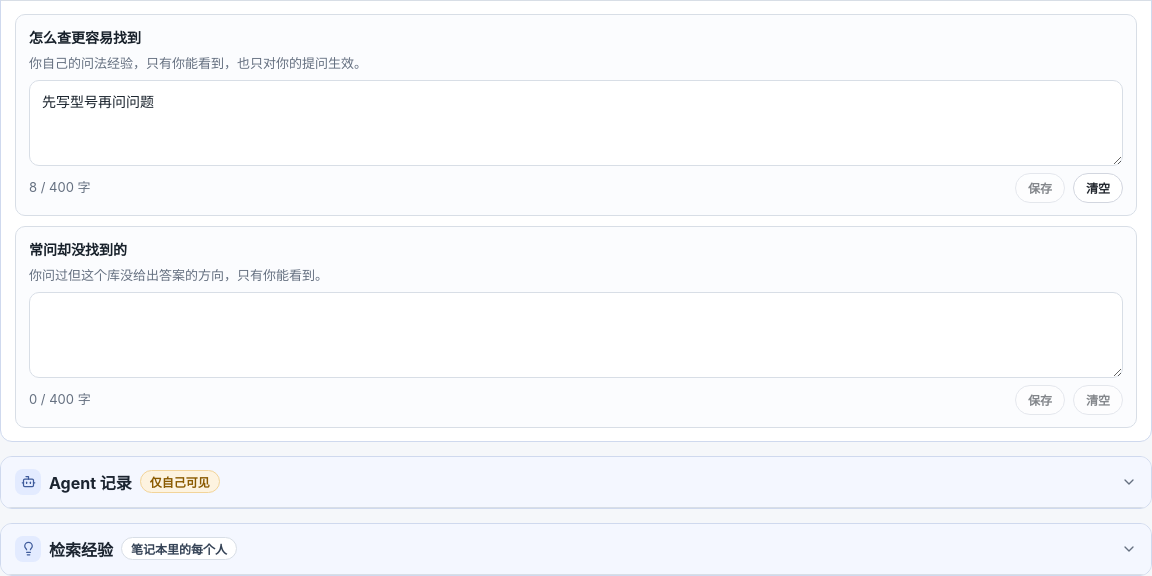
Test: Agent 记录：清空全部是两步确认，第一下只出确认按钮，确认后省略 agentProfileId 全清
The image size is (1152, 576).
(page scrolled)
Click the text "Agent 记录" at (90, 482), box [49,470,132,494]
(page scrolled)
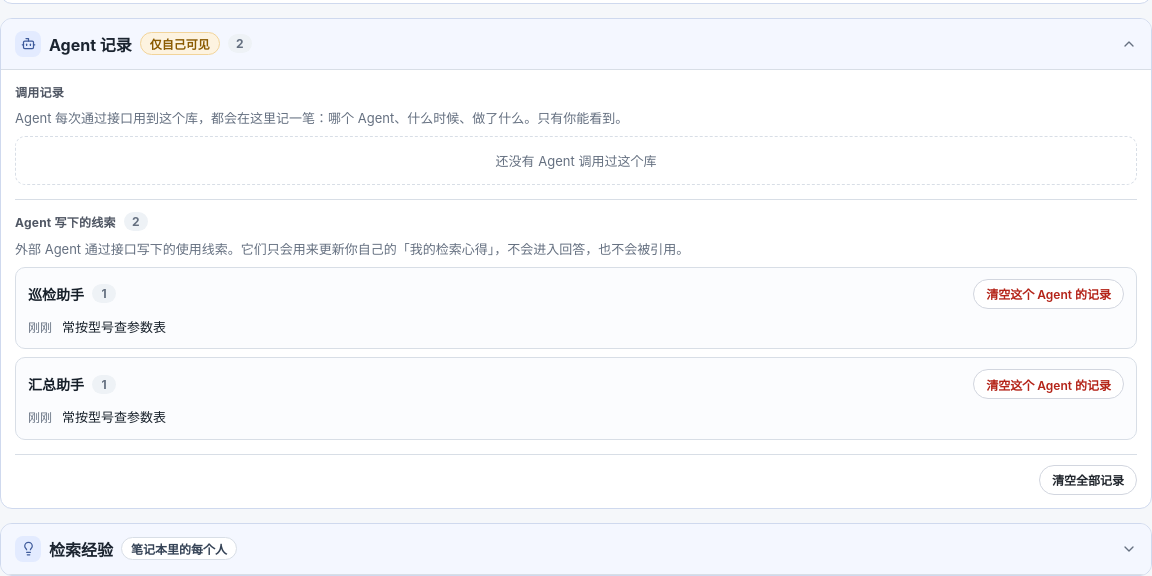
Check: the text "巡检助手" is shown, box [28,284,84,304]
Click the button "清空全部记录" at (1088, 480), box [1039,465,1137,495]
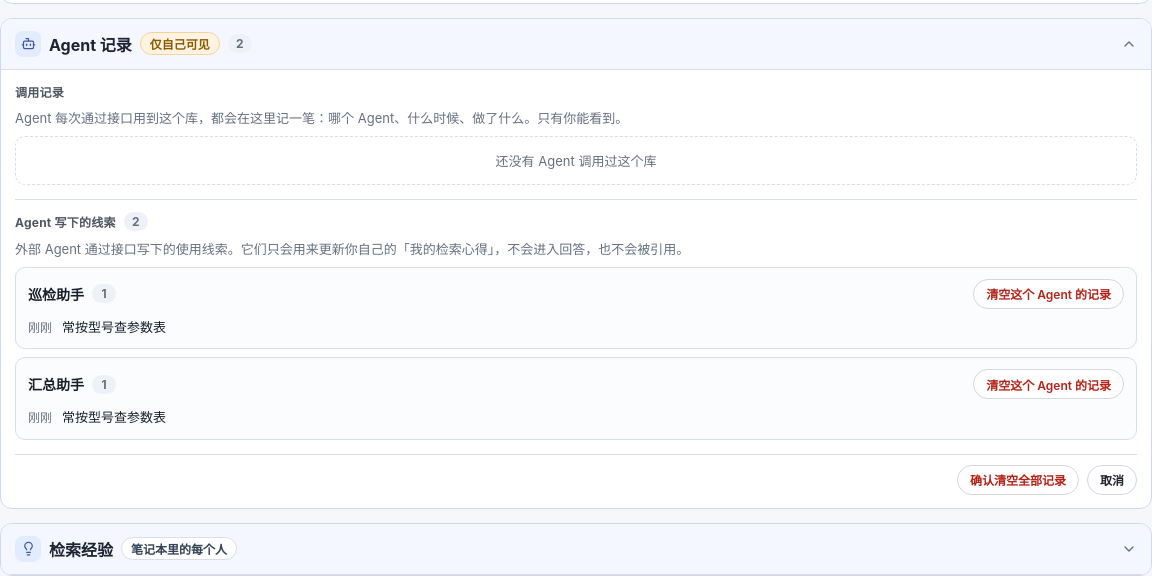
Check: the button "确认清空全部记录" is shown
Click the button "确认清空全部记录" at (1018, 480), box [957,465,1079,495]
(page scrolled)
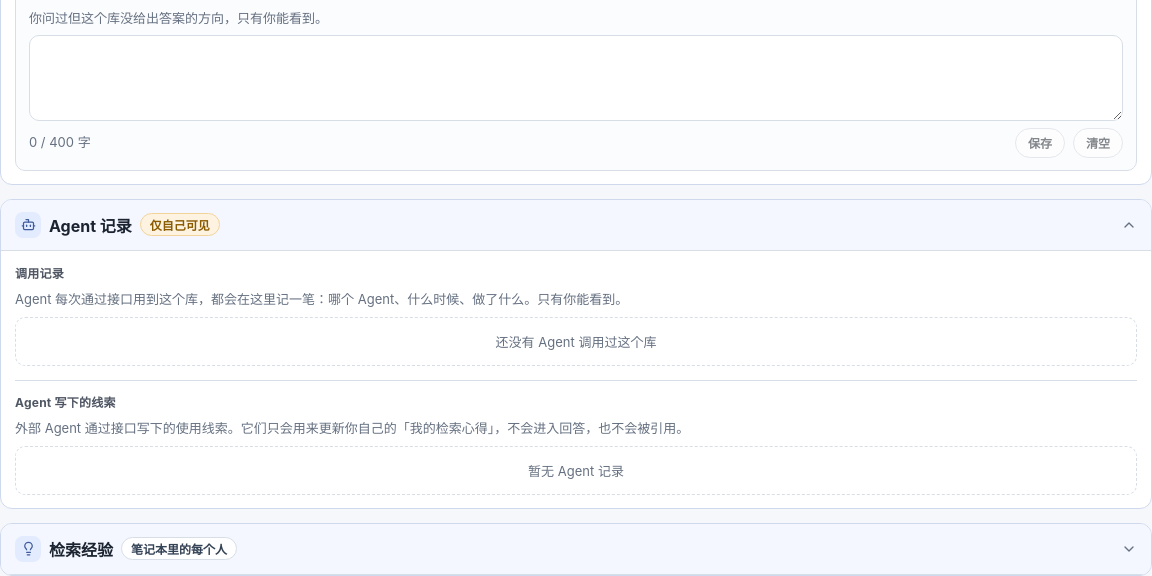
Check: the text "暂无 Agent 记录" is shown, box [15,446,1137,495]
